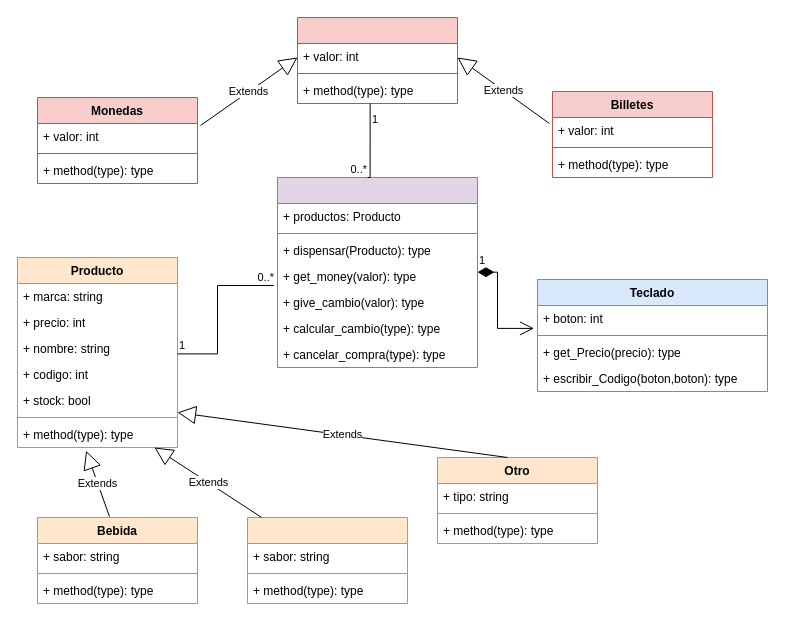
Some shapes in this 785 by 624 pixel diagram are drawn without their labels. Each missing label, with the box of its shape:
Comida: (246, 516, 408, 604)
Dinero: (296, 16, 458, 104)
Máquina Expendedora: (276, 176, 478, 368)
